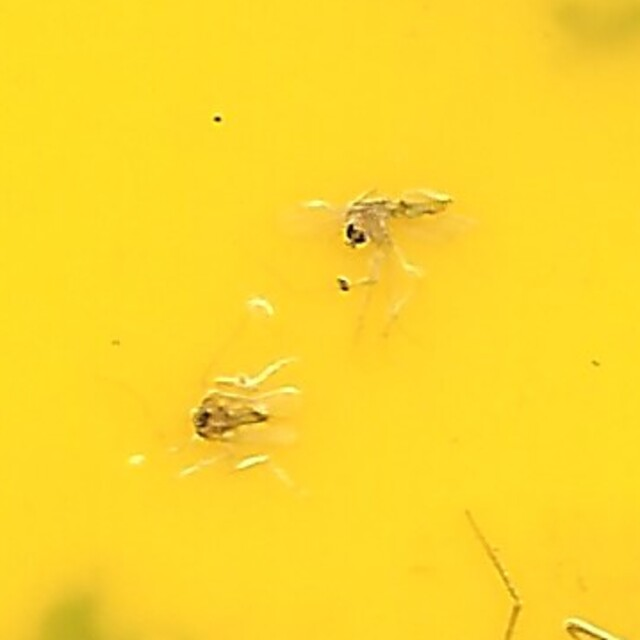Nematocera: (328, 181, 462, 287), (178, 371, 283, 459)
